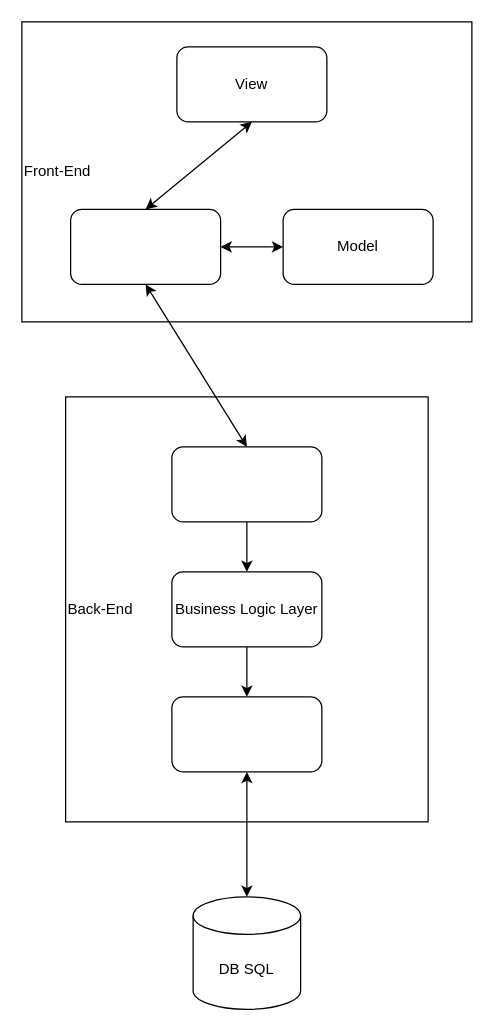
Image size: 494x1031. Some labels were removed from this diagram. Here are the shapes that lost their labels. From the top down, the centre of each, then its label:
At pixel 145 246: "Controller".
At pixel 246 484: "API".
At pixel 246 734: "Data Access Layer".
